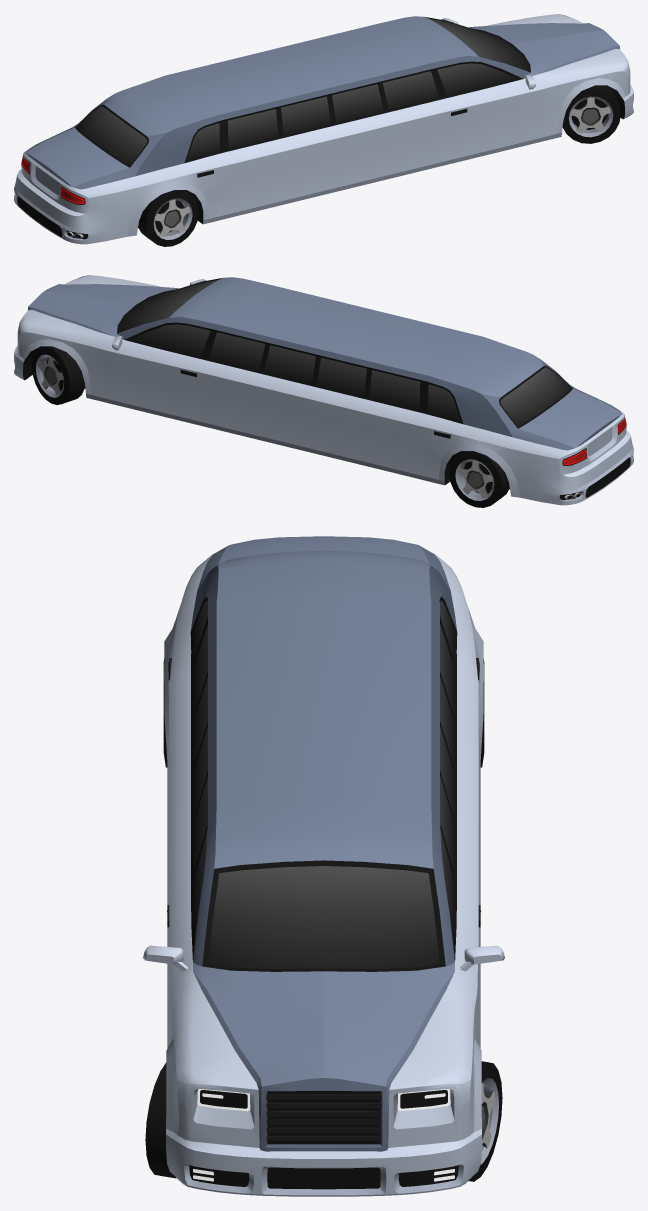
File: Car_057.glb
3 views of the same model, one above another, from view 1: azimuth 30°, elevation 25°; view 2: azimuth 150°, elevation 25°; view 3: azimuth 270°, elevation 25° (orthographic). The views are drawn at different scales.
Parts seen in each view (by area): view 1: Car_057, wheel_1_Car_057_Wheel_1R, wheel_3_Car_057_Wheel_2R; view 2: Car_057, wheel_2_Car_057_Wheel_2L, wheel_0_Car_057_Wheel_1L; view 3: Car_057, wheel_0_Car_057_Wheel_1L, wheel_1_Car_057_Wheel_1R.
Boxes of the visible parts, x1,y1,x2,y2 form: Car_057: (14,14,633,244); wheel_1_Car_057_Wheel_1R: (562,85,620,143); wheel_3_Car_057_Wheel_2R: (138,190,198,246); Car_057: (14,275,633,505); wheel_2_Car_057_Wheel_2L: (449,451,509,507); wheel_0_Car_057_Wheel_1L: (31,346,84,404); Car_057: (143,536,504,1196); wheel_0_Car_057_Wheel_1L: (469,1061,502,1181); wheel_1_Car_057_Wheel_1R: (145,1062,176,1178).
Size of the model in its own units: 8.33 by 1.54 by 2.28.
Materials: 3 (3 with a texture image).
